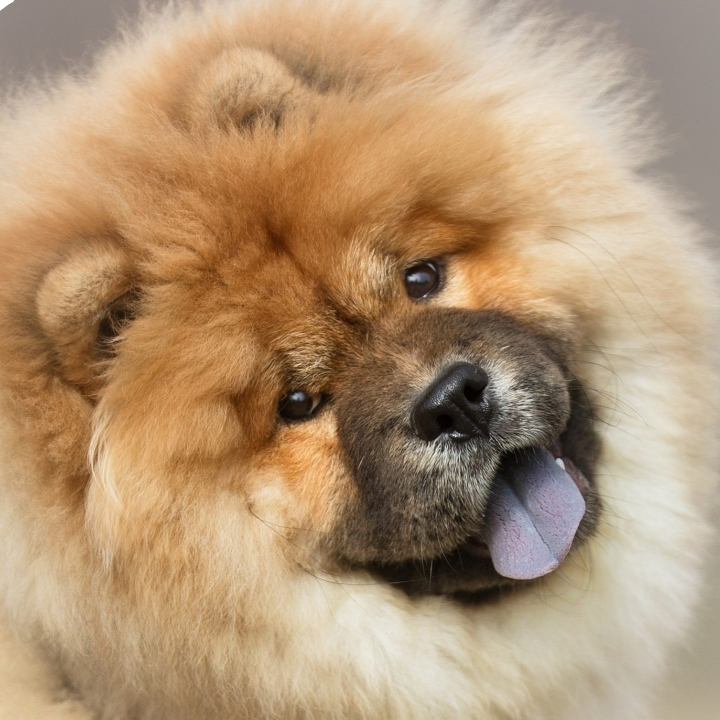Dog: (0, 0, 717, 719)
